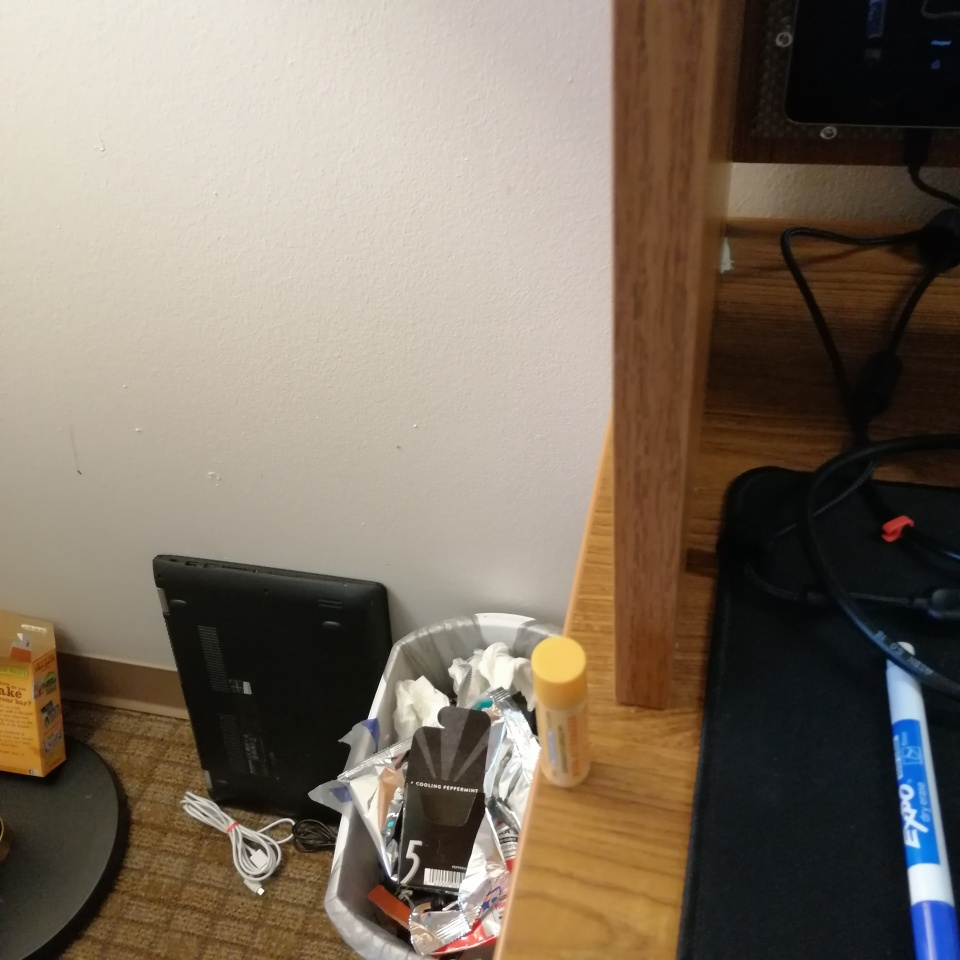chapstick: (532, 636, 591, 788)
